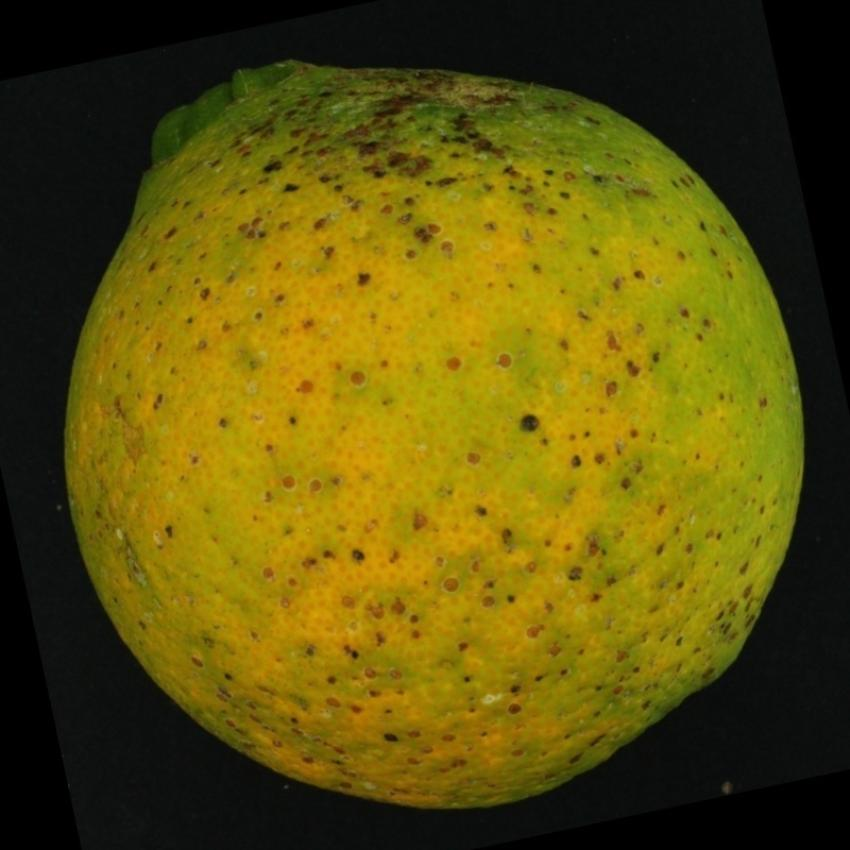Mal estado: (60, 38, 815, 816)
